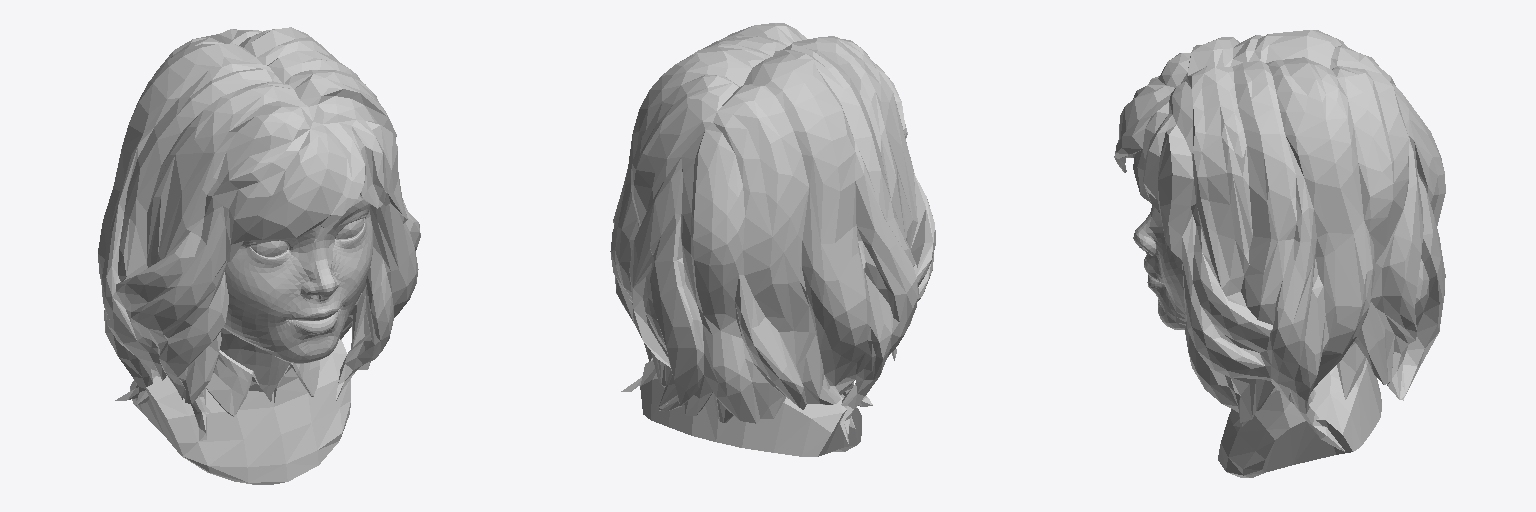
File: avatar.obj
3 views of the same model, side by side, from view 1: azimuth 30°, elevation 25°; view 2: azimuth 150°, elevation 25°; view 3: azimuth 270°, elevation 25° (orthographic).
Visible parts, largest first — view 1: Wolf3D_Avatar; view 2: Wolf3D_Avatar; view 3: Wolf3D_Avatar.
Boxes of the visible parts, x1=… form: Wolf3D_Avatar: x1=98, y1=27, x2=420, y2=484; Wolf3D_Avatar: x1=610, y1=23, x2=935, y2=456; Wolf3D_Avatar: x1=1114, y1=30, x2=1445, y2=477.
Size of the model in its own units: 0.2775 by 0.3677 by 0.2652.